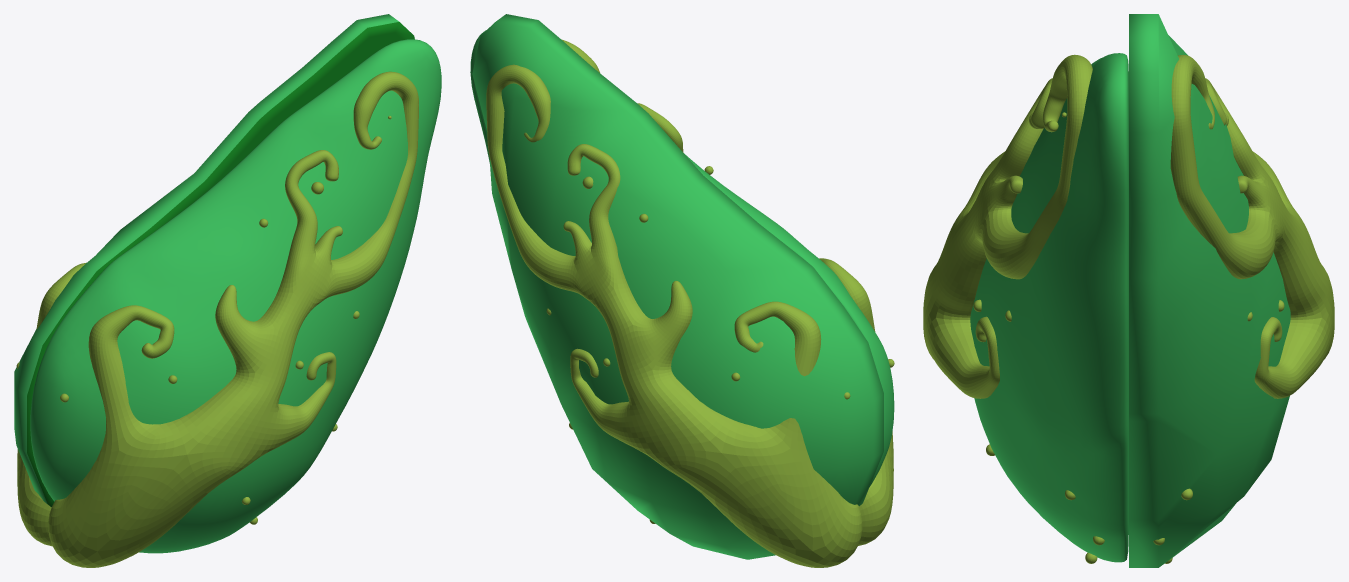
File: Seed.fbx
3 renders of one model, left to right at view 1: azimuth 30°, elevation 25°; view 2: azimuth 150°, elevation 25°; view 3: azimuth 270°, elevation 25°, orthographic. The views are drawn at different scales.
Visible parts, largest first — view 1: Seed; view 2: Seed; view 3: Seed.
Boxes of the visible parts, box(x1,y1,x2,y2) form: Seed: box(14, 14, 441, 567); Seed: box(470, 14, 894, 567); Seed: box(923, 14, 1334, 567).
Bounding box in the file's own units: 298 × 328 × 186.
